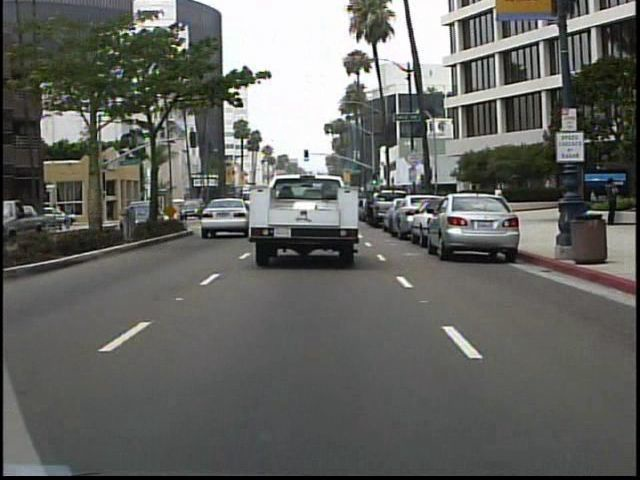person: (601, 174, 621, 229)
